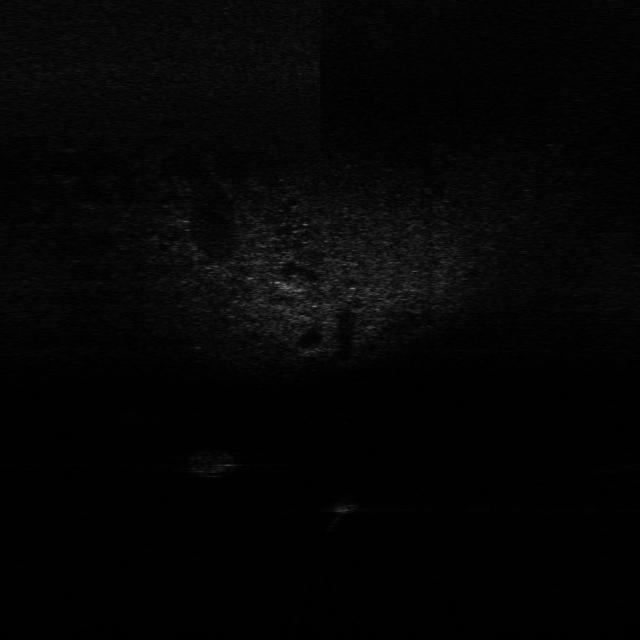circle cage: (187, 445, 243, 480)
cylinder: (323, 492, 353, 538)
